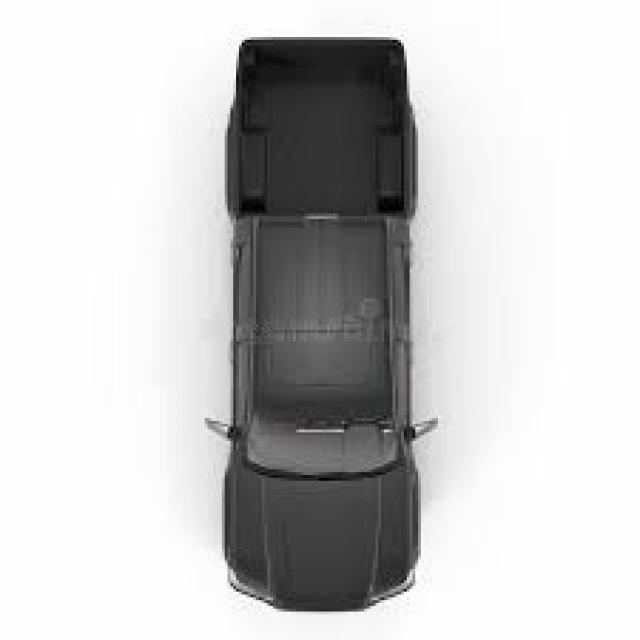truck: (219, 34, 415, 615)
